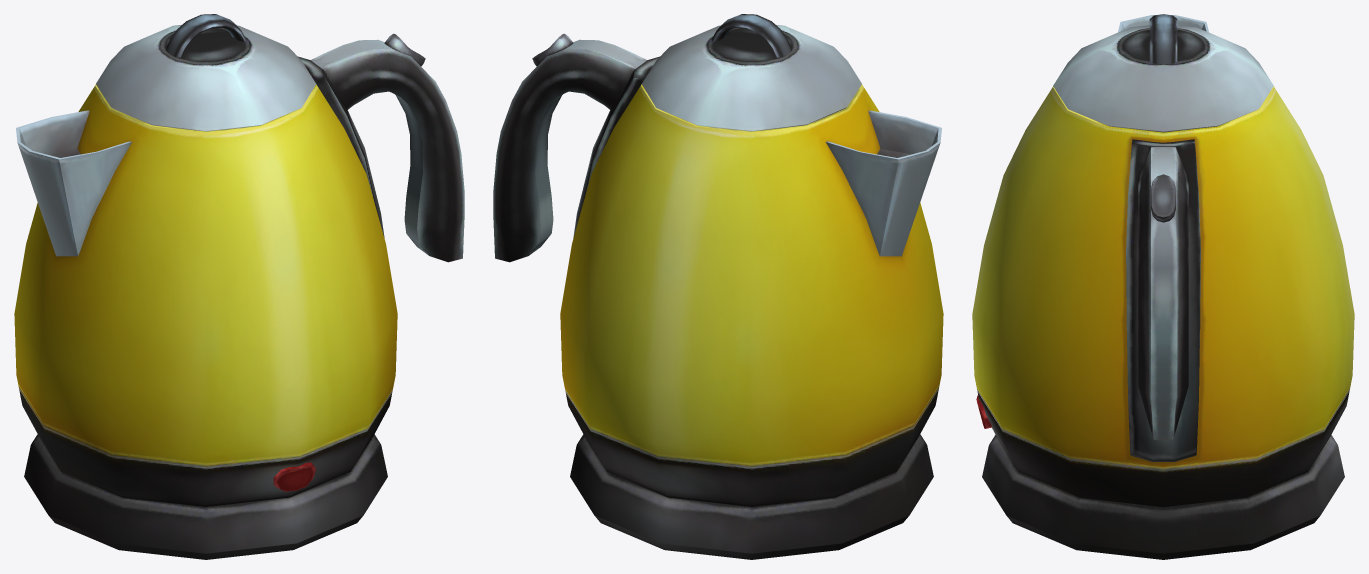
The model's file is kettle.glb.
3 views of the same model, side by side, from view 1: azimuth 30°, elevation 25°; view 2: azimuth 150°, elevation 25°; view 3: azimuth 270°, elevation 25° (orthographic).
Parts seen in each view (by area): view 1: Object_2; view 2: Object_2; view 3: Object_2.
Part boxes in pixels (x1,y1,x2,y2): Object_2: (14,14,464,559); Object_2: (493,14,943,559); Object_2: (972,14,1354,559).
Bounding box in the file's own units: 4.54 × 4.69 × 3.47.
Materials: 1 (1 with a texture image).
